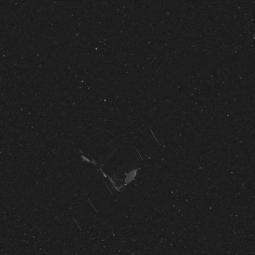soho: (72, 121, 156, 201)
